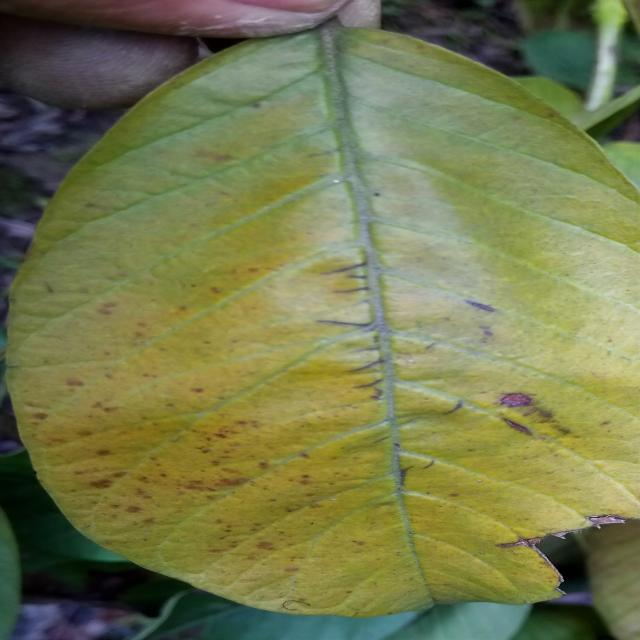Red Rust: (11, 168, 638, 615)
